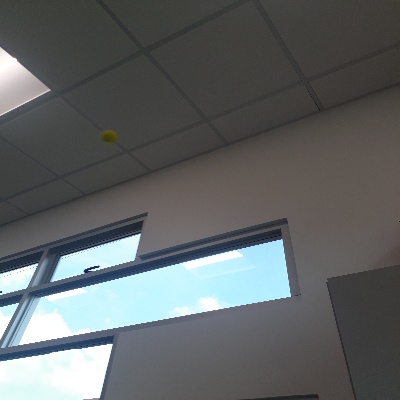Ball: (98, 129, 118, 143)
